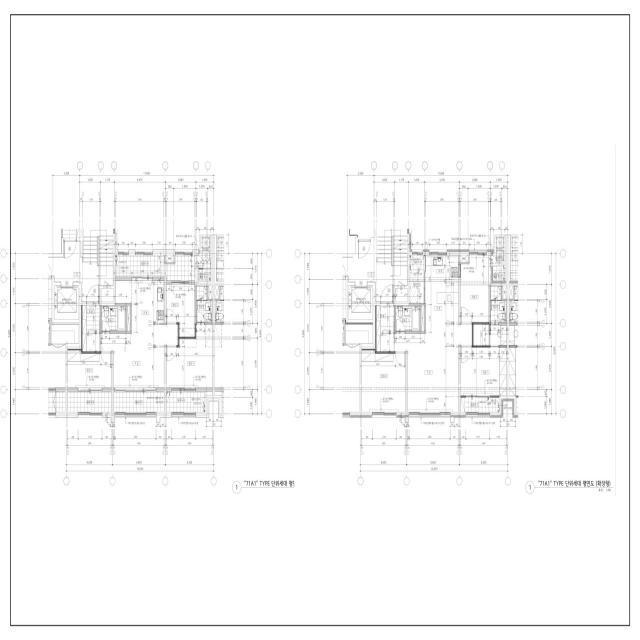space_balconi: (115, 255, 195, 280), (114, 392, 164, 412), (167, 392, 212, 412), (68, 392, 111, 412), (410, 255, 424, 303), (461, 398, 499, 412)
space_bedroom: (461, 325, 506, 396), (166, 325, 212, 388), (362, 350, 405, 412), (461, 255, 489, 322), (68, 350, 111, 388), (167, 285, 195, 337)
space_elevator: (54, 286, 79, 320), (348, 286, 373, 320)
space_elevator_hall: (342, 241, 407, 301), (48, 241, 113, 301)
space_front: (376, 306, 396, 351), (82, 306, 102, 351)
space_kitchen: (426, 255, 458, 325), (145, 281, 164, 325)
space_living_room: (102, 280, 178, 388), (396, 324, 472, 412)
space_other: (51, 324, 79, 344), (345, 324, 373, 344), (491, 236, 505, 268), (197, 236, 211, 268), (474, 325, 489, 345), (101, 288, 113, 302), (396, 288, 407, 302), (199, 270, 211, 281), (493, 270, 505, 281), (127, 305, 130, 332), (421, 305, 424, 332), (165, 255, 174, 262), (460, 255, 468, 262), (208, 286, 212, 299), (503, 286, 507, 299), (509, 286, 513, 299), (215, 286, 219, 299)
space_staircase: (82, 229, 113, 269), (376, 229, 407, 269)
space_toilet: (102, 306, 126, 331), (396, 306, 420, 331), (196, 286, 212, 322), (491, 286, 506, 322)
